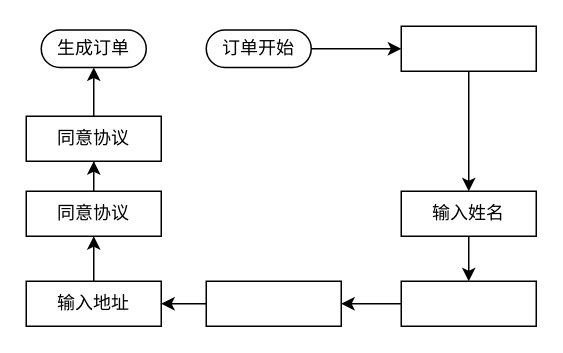
The diagram is 563 pixels wide and 353 high, and some of its shapes have lost their labels. The centre of each missing label's shape, as x and y in pixels:
"输入手机验证码" goes at (273,303).
"输入联系电话" goes at (468,303).
"配送方式选择" goes at (468,48).
